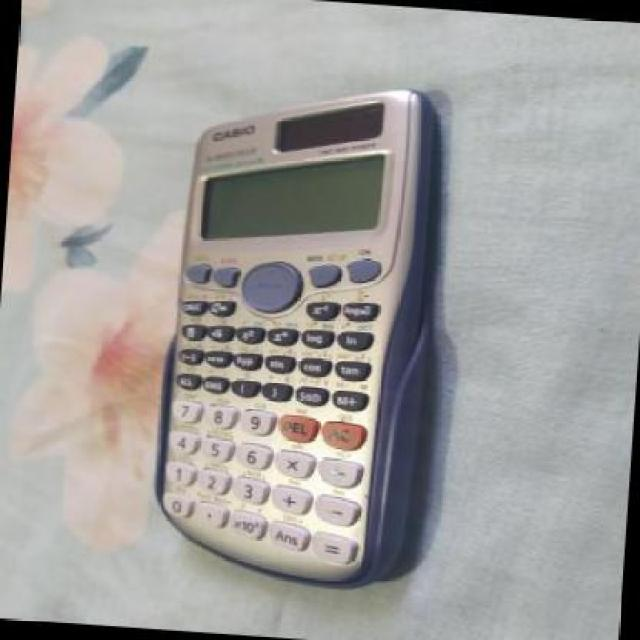Calculator: (128, 64, 468, 605)
